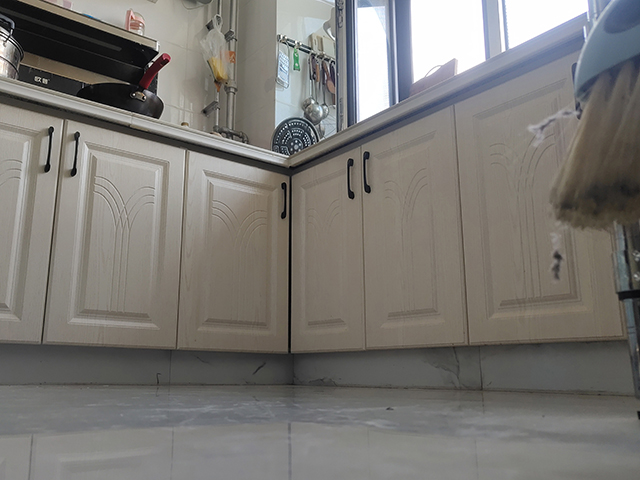cabinet: (286, 40, 566, 390), (1, 78, 287, 381)
